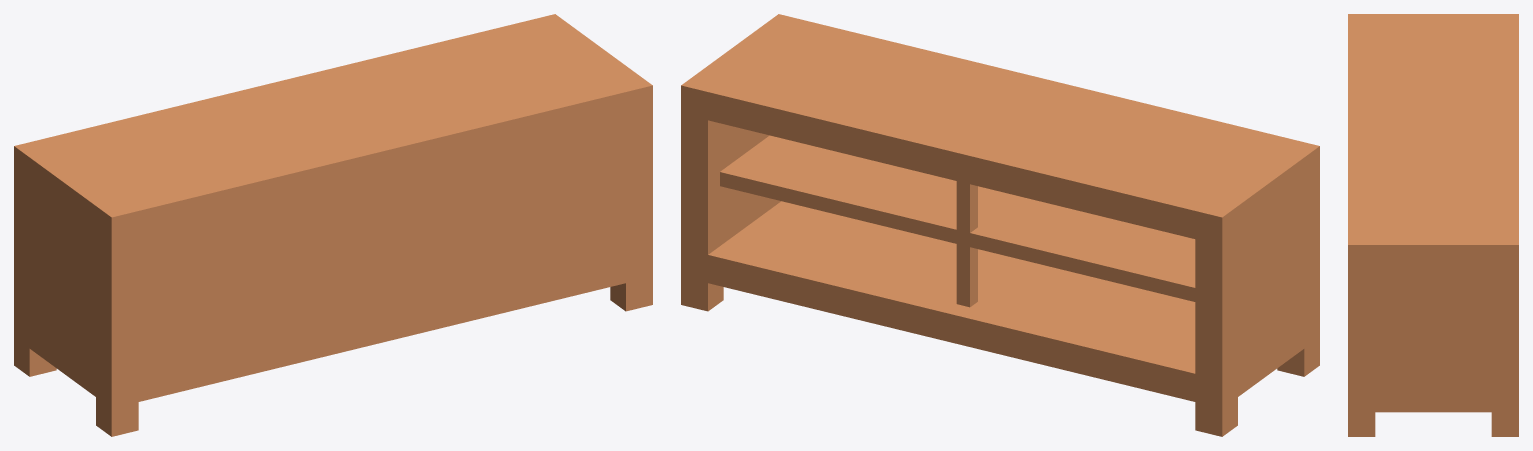
Rendered from cabinetTelevision.obj.
3 views of the same model, side by side, from view 1: azimuth 30°, elevation 25°; view 2: azimuth 150°, elevation 25°; view 3: azimuth 270°, elevation 25° (orthographic). The views are drawn at different scales.
Parts seen in each view (by area): view 1: cabinetTelevision; view 2: cabinetTelevision; view 3: cabinetTelevision.
Boxes of the visible parts, bbox=[...] form: cabinetTelevision: bbox=[14, 14, 652, 436]; cabinetTelevision: bbox=[681, 14, 1319, 436]; cabinetTelevision: bbox=[1348, 14, 1518, 436].
Size of the model in its own units: 0.8 by 0.31 by 0.25.
